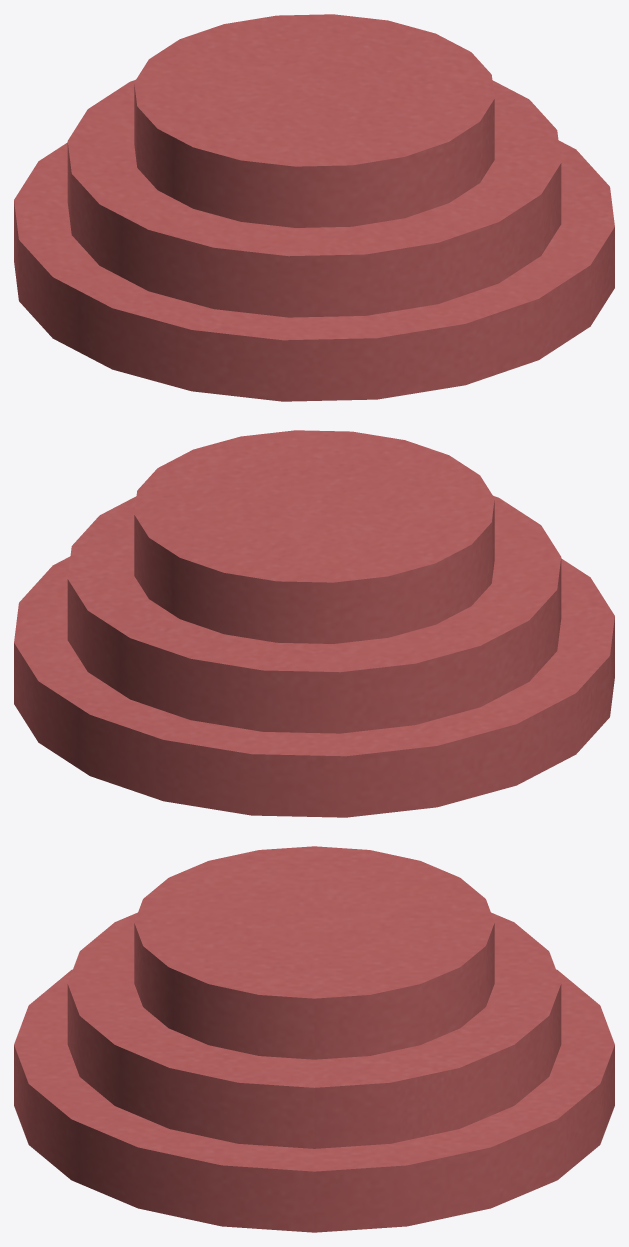
Rendered from SmallStage.obj.
The picture shows the model from 3 angles, top to bottom: view 1: azimuth 30°, elevation 25°; view 2: azimuth 150°, elevation 25°; view 3: azimuth 270°, elevation 25°; orthographic projection.
Parts seen in each view (by area): view 1: pCylinder1; view 2: pCylinder1; view 3: pCylinder1.
Boxes of the visible parts, x1=… form: pCylinder1: x1=14, y1=14, x2=614, y2=401; pCylinder1: x1=14, y1=430, x2=614, y2=817; pCylinder1: x1=14, y1=846, x2=614, y2=1232.
Size of the model in its own units: 3.91 by 1.32 by 3.91.
1 material, 1 textured.
